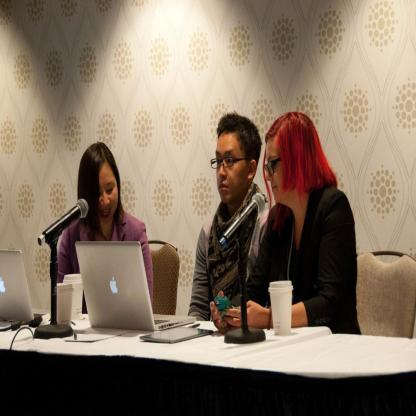board: (90, 231, 170, 337), (0, 251, 51, 323), (269, 281, 294, 338), (64, 272, 85, 323), (55, 284, 73, 328)
